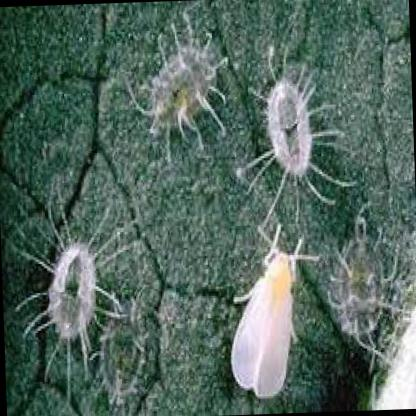whitefly: (233, 253, 292, 396)
